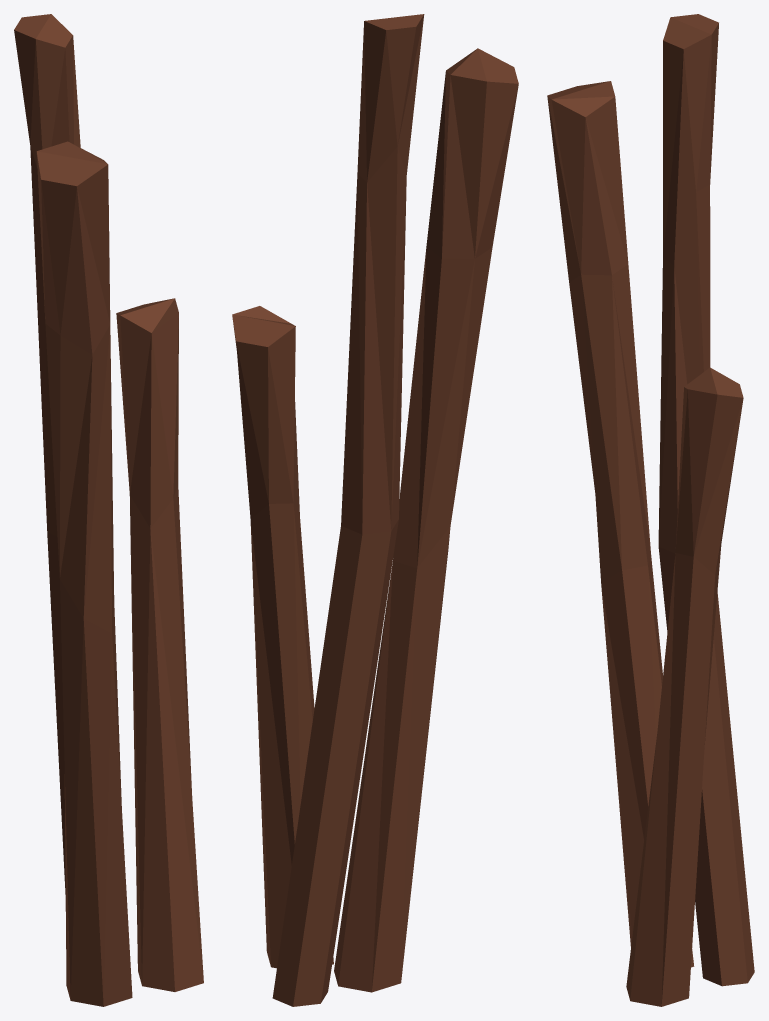
Rendered from Wooden Sticks_1.fbx.
3 views of the same model, side by side, from view 1: azimuth 30°, elevation 25°; view 2: azimuth 150°, elevation 25°; view 3: azimuth 270°, elevation 25° (orthographic). The views are drawn at different scales.
Visible parts, largest first — view 1: Wooden Sticks_1; view 2: Wooden Sticks_1; view 3: Wooden Sticks_1.
Part boxes in pixels (x1,y1,x2,y2): Wooden Sticks_1: (14, 14, 203, 1006); Wooden Sticks_1: (232, 14, 518, 1006); Wooden Sticks_1: (547, 14, 754, 1006).
Size of the model in its own units: 0.3975 by 1.76 by 0.3616.
